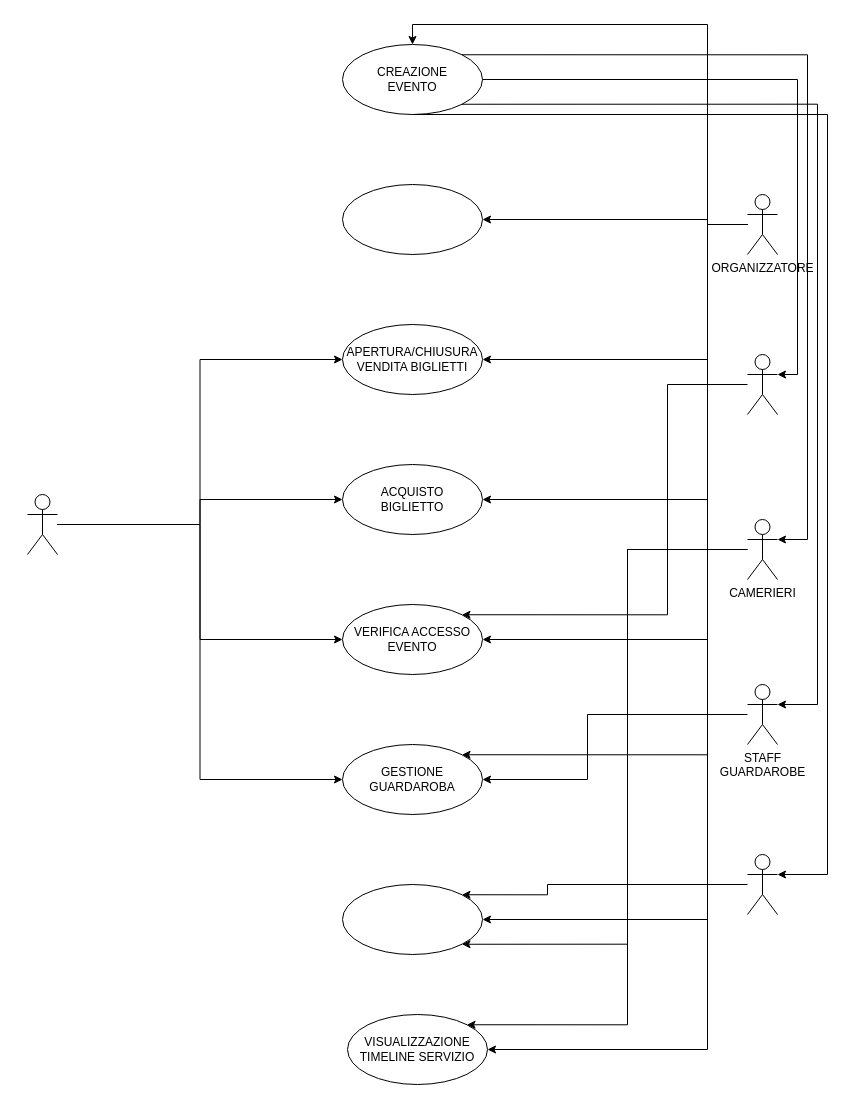
The diagram is 853 pixels wide and 1102 high, and some of its shapes have lost their labels. Here are the shapes that lost their labels. From the top down, the centre of each, then its label:
At pixel 412 219: "AGGIUNTA BIGLIETTI".
At pixel 762 384: "STAFF INGRESSO".
At pixel 42 524: "CLIENTE".
At pixel 762 884: "GESTORE SCORTE".
At pixel 412 919: "MONITORAGGIO SCORTE".
